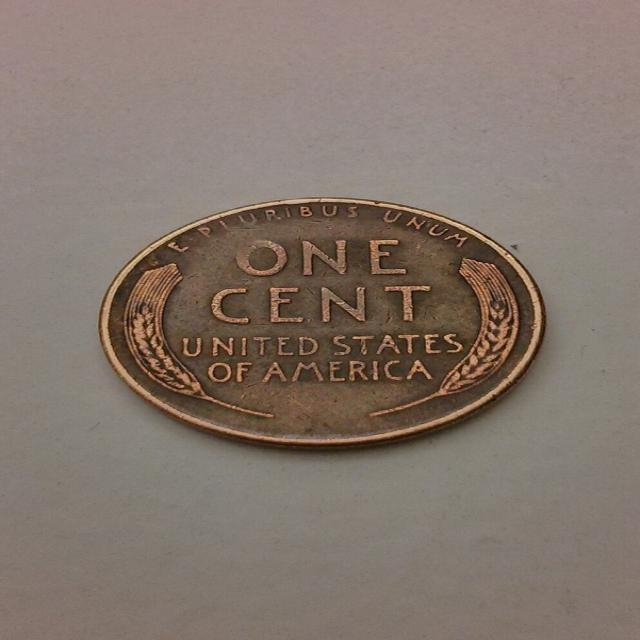Coin: (99, 196, 549, 453)
